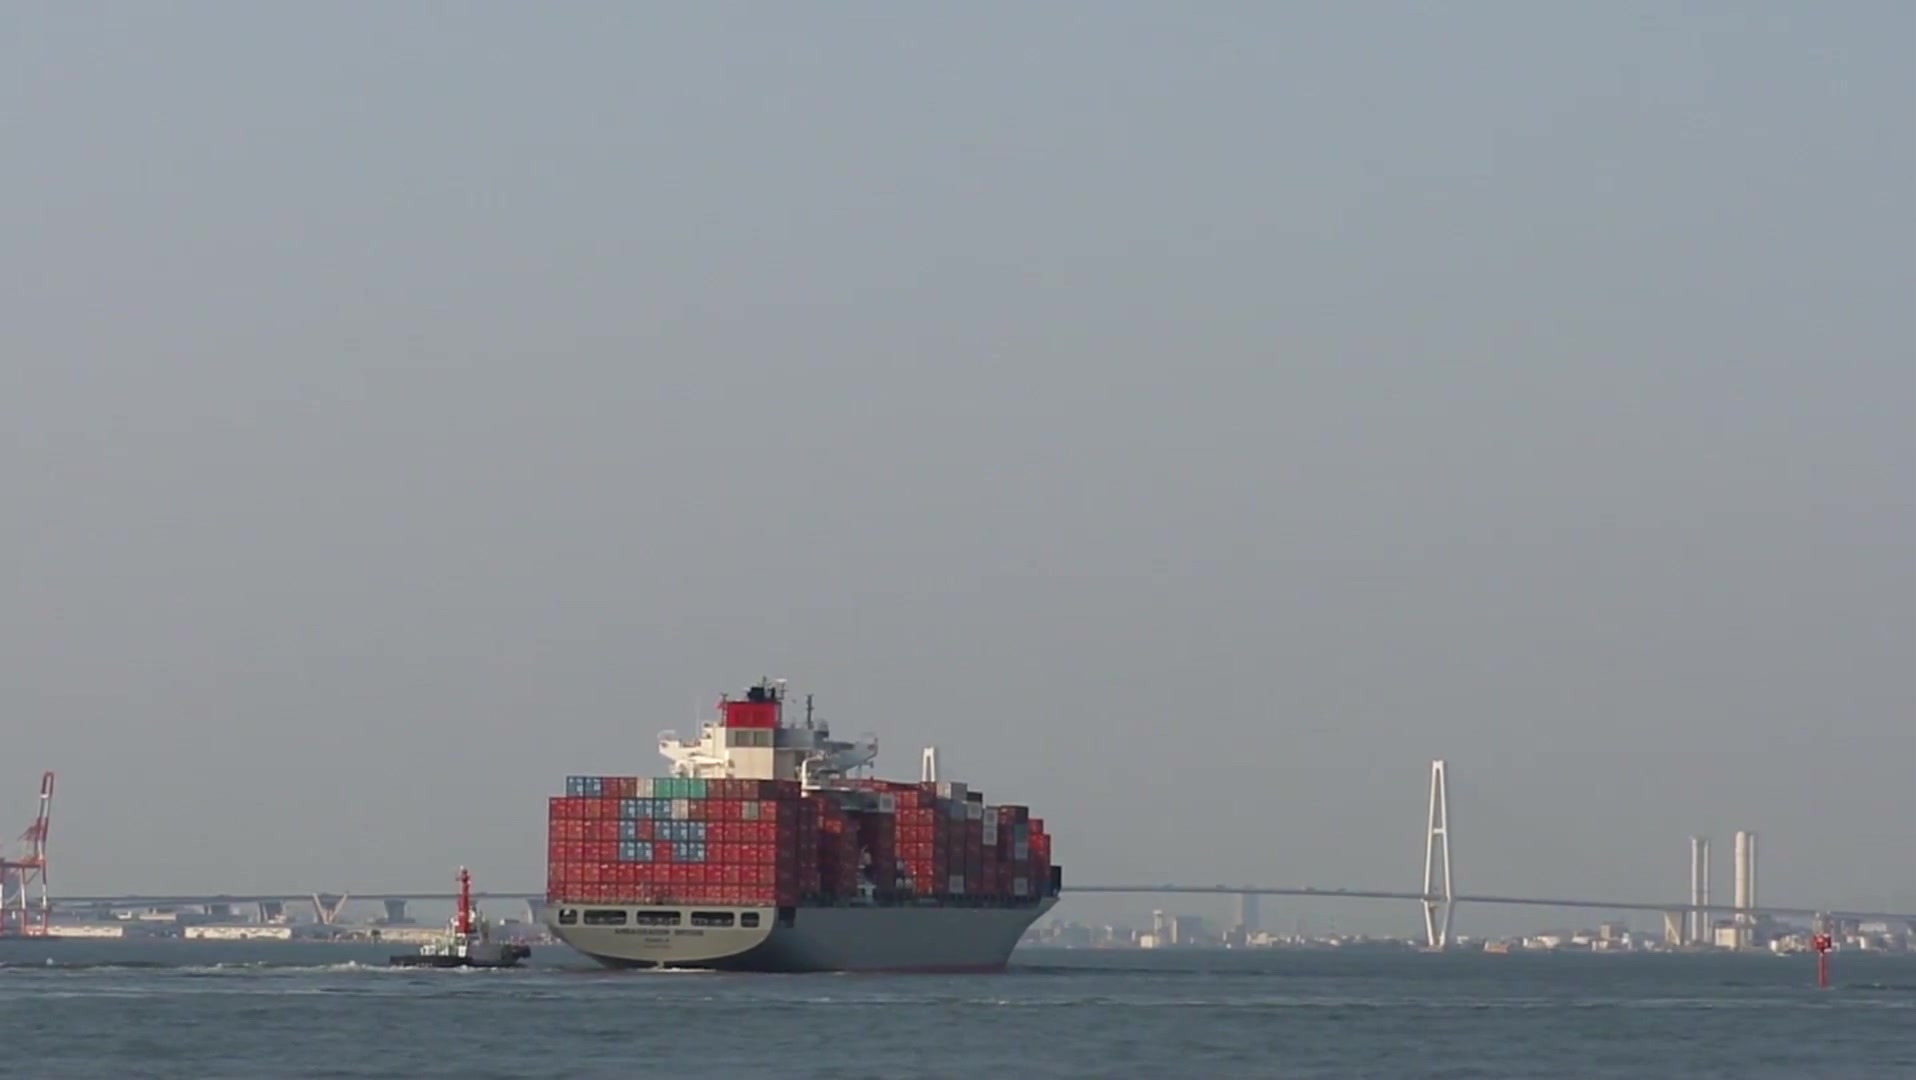boat: (536, 674, 1071, 984), (393, 881, 526, 980)
